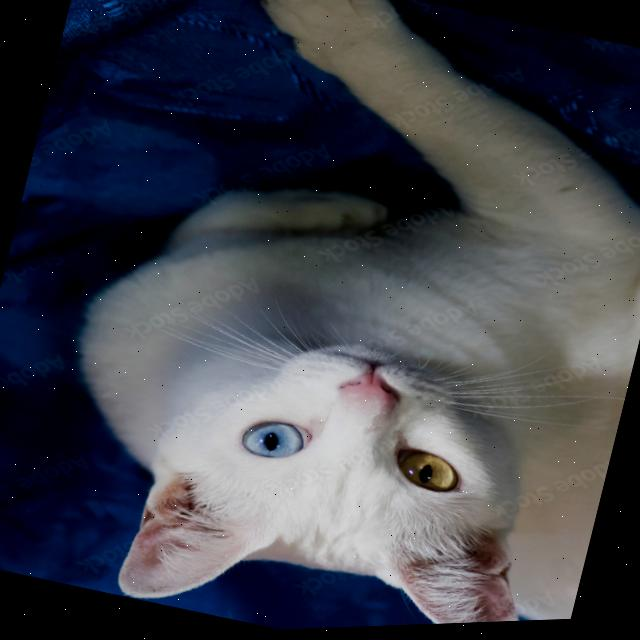Khao Manee: (9, 0, 640, 640)
